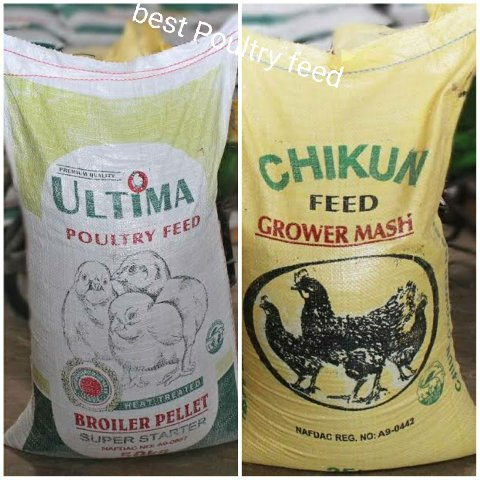feed_bag: (1, 31, 240, 465)
